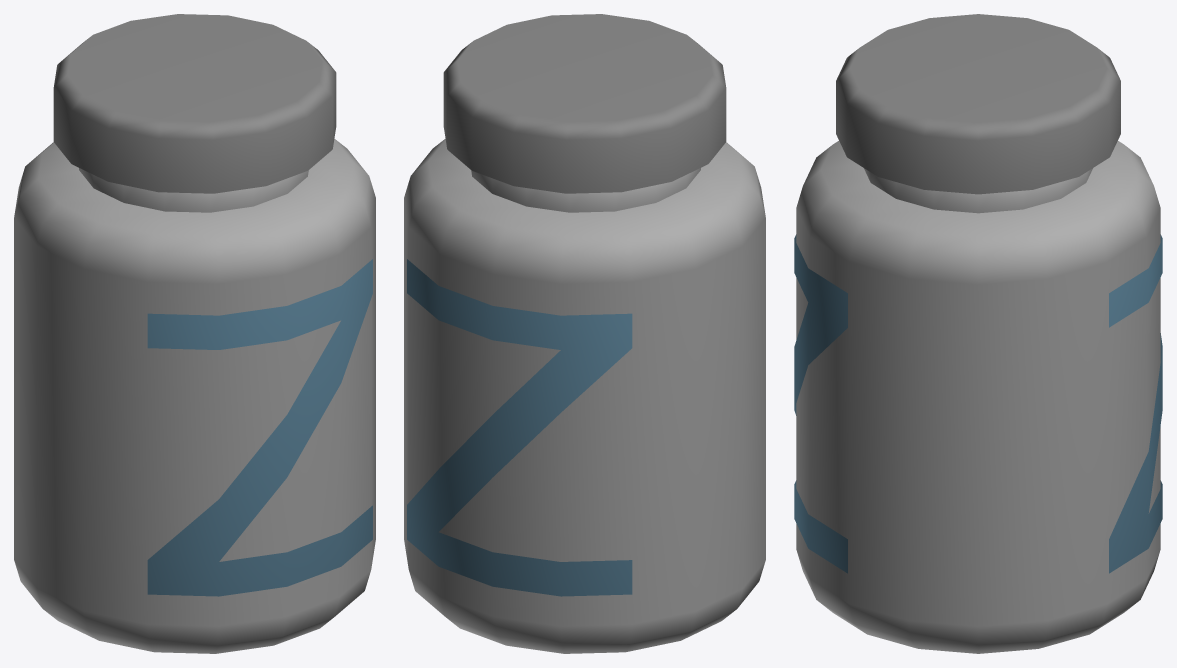
The model's file is item_sleeppill.fbx.
The picture shows the model from 3 angles, left to right: view 1: azimuth 30°, elevation 25°; view 2: azimuth 150°, elevation 25°; view 3: azimuth 270°, elevation 25°; orthographic projection.
Parts seen in each view (by area): view 1: item_sleeppill; view 2: item_sleeppill; view 3: item_sleeppill.
Boxes of the visible parts, x1,y1,x2,y2 form: item_sleeppill: (14,14,375,653); item_sleeppill: (404,14,765,653); item_sleeppill: (794,14,1162,653).
Size of the model in its own units: 1 by 1.59 by 1.01.
